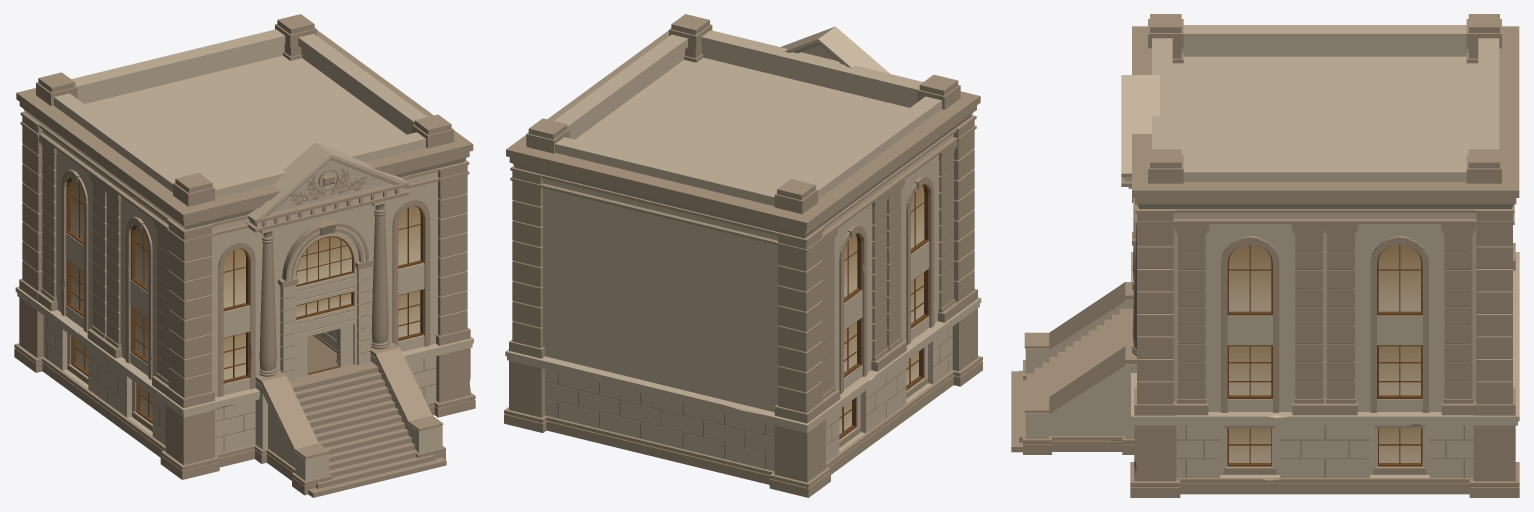
The model's file is SM_Buildings_Library_01.fbx.
The picture shows the model from 3 angles, left to right: view 1: azimuth 30°, elevation 25°; view 2: azimuth 150°, elevation 25°; view 3: azimuth 270°, elevation 25°; orthographic projection. The views are drawn at different scales.
Parts seen in each view (by area): view 1: SM_Buildings_Library_01; view 2: SM_Buildings_Library_01; view 3: SM_Buildings_Library_01.
Boxes of the visible parts, bbox=[...] form: SM_Buildings_Library_01: bbox=[14, 14, 475, 497]; SM_Buildings_Library_01: bbox=[504, 14, 982, 497]; SM_Buildings_Library_01: bbox=[1011, 14, 1519, 497].
Bounding box in the file's own units: 20 × 19.08 × 25.9.
